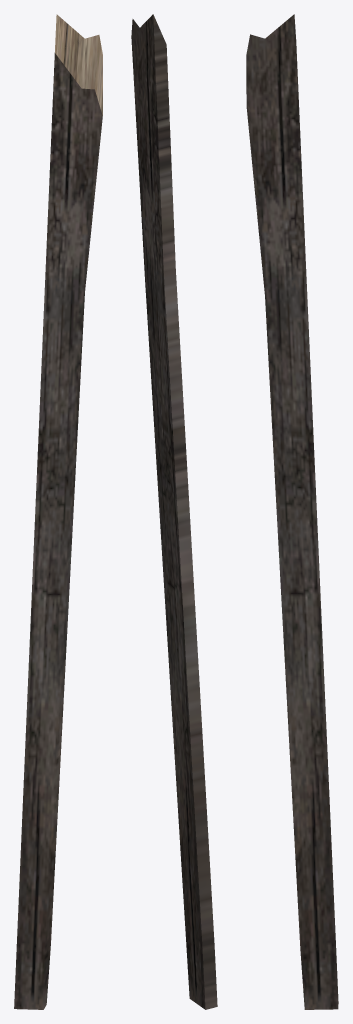
File: shackwall01_dmg04_e.glb
3 views of the same model, side by side, from view 1: azimuth 90°, elevation 25°; view 2: azimuth 210°, elevation 25°; view 3: azimuth 270°, elevation 25° (orthographic). The views are drawn at different scales.
Parts seen in each view (by area): view 1: shackwall01_dmg04_e; view 2: shackwall01_dmg04_e; view 3: shackwall01_dmg04_e.
Part boxes in pixels (x1,y1,x2,y2): shackwall01_dmg04_e: (14, 14, 102, 1009); shackwall01_dmg04_e: (131, 14, 217, 1009); shackwall01_dmg04_e: (246, 14, 338, 1009).
Size of the model in its own units: 0.0692 by 1.51 by 0.1249.
Materials: 1 (1 with a texture image).
